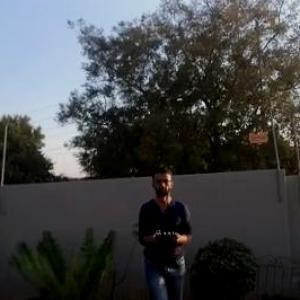follow: (133, 162, 199, 299)
